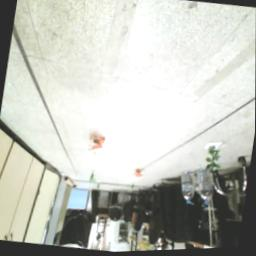herb: (204, 145, 224, 179), (90, 174, 97, 184)
wild: (88, 135, 107, 155), (133, 169, 145, 181)
